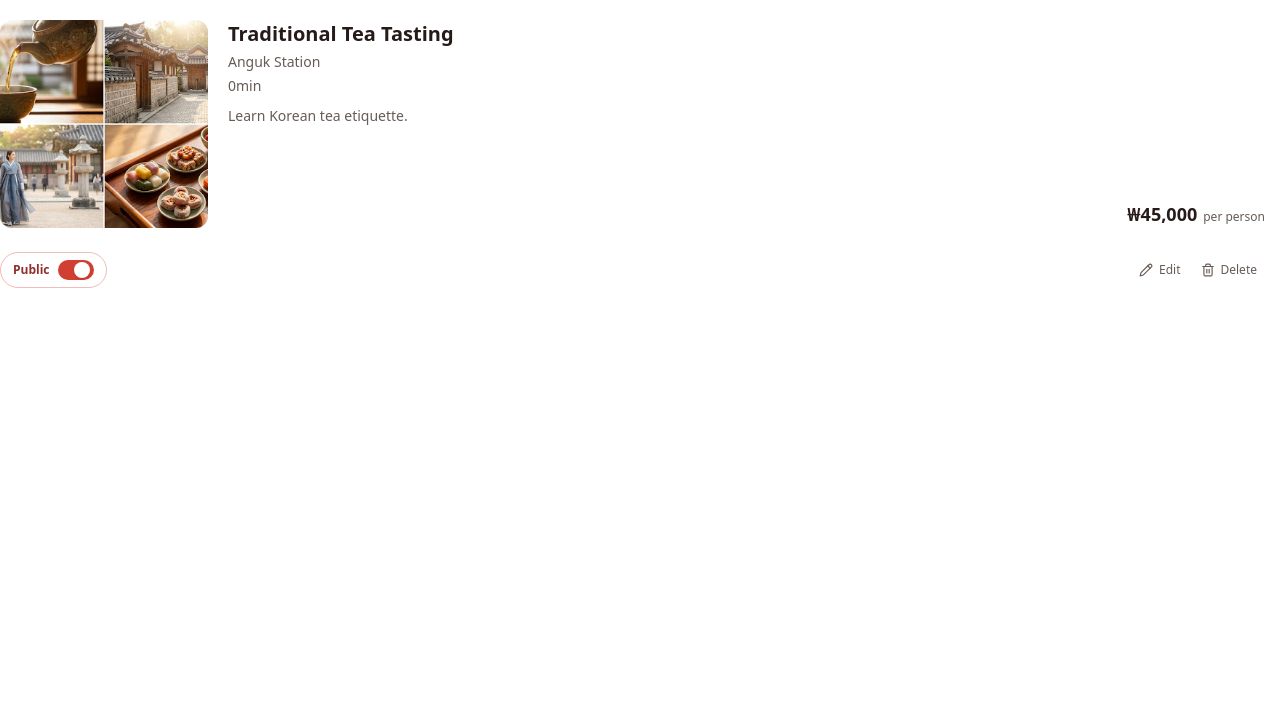
Scenario: MyActivitiesContent › changes an active activity to inactive through the dedicated status endpoint
Click the switch named "Make Traditional Tea Tasting private": coordinates (53, 270) [0,252,106,288]
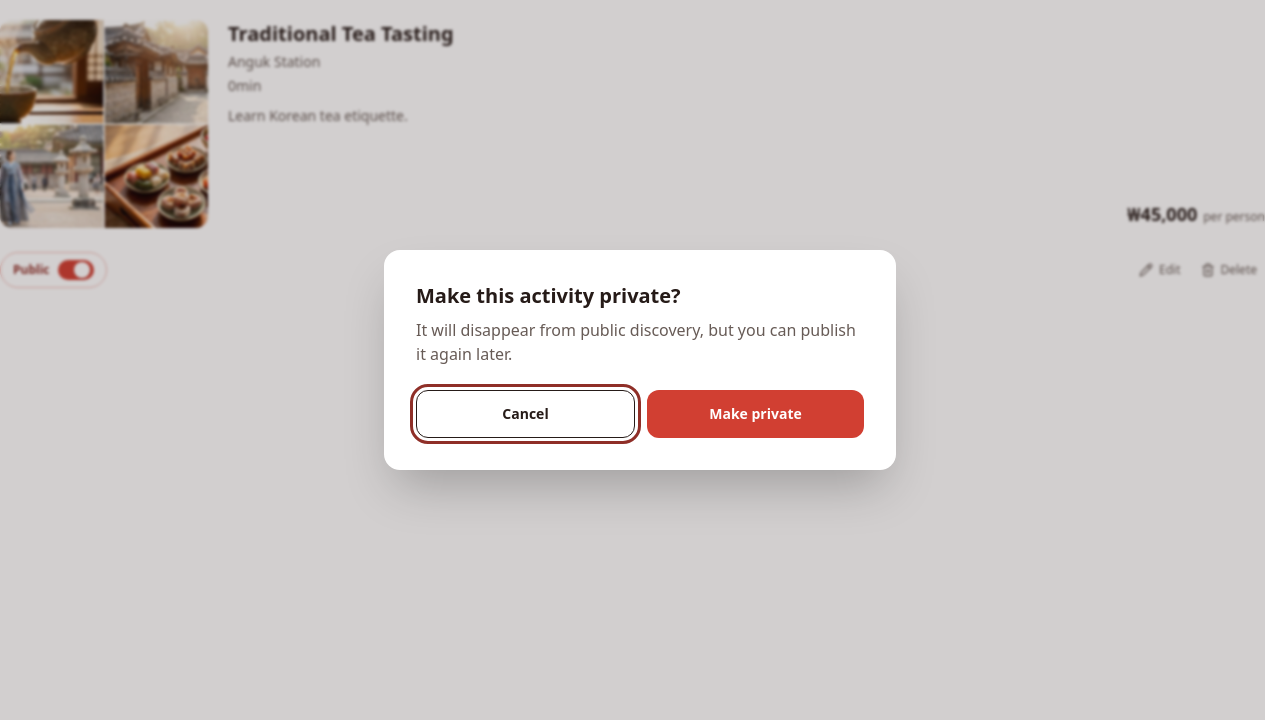
Click the button "Make private": coordinates (756, 414) [647,390,864,438]
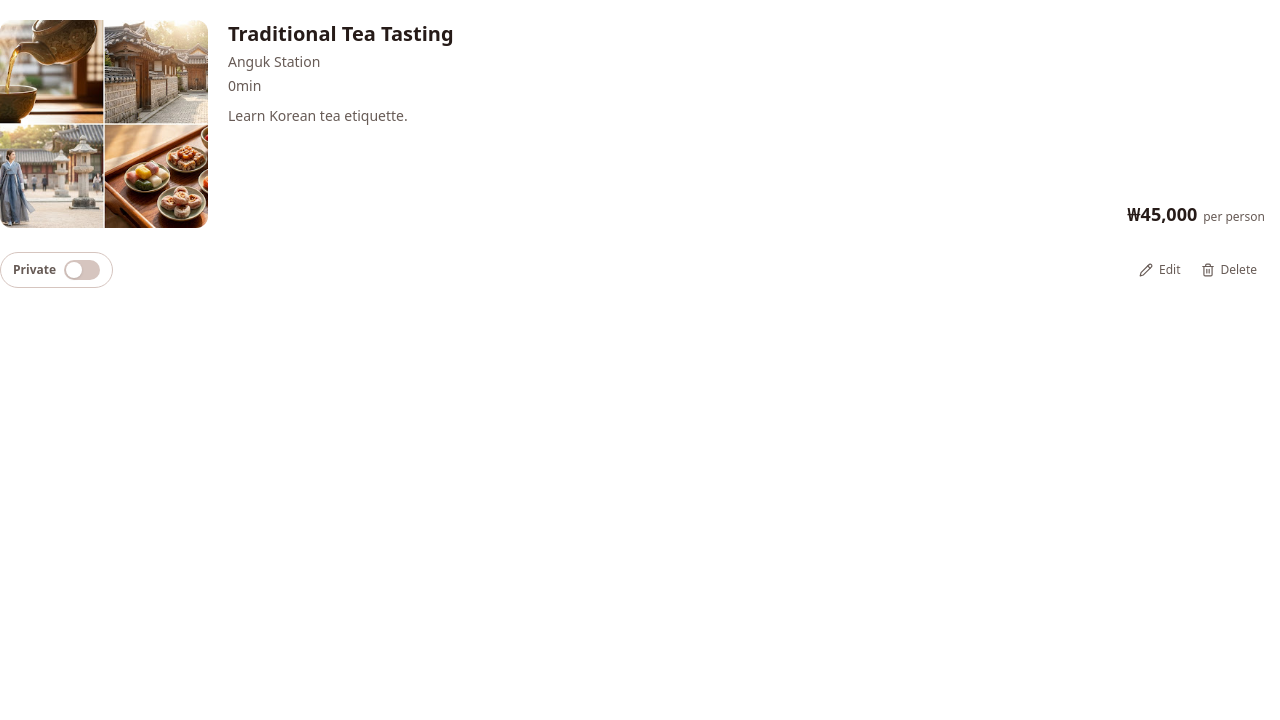
Now the text "Private" is shown, box [13,262,56,278]
